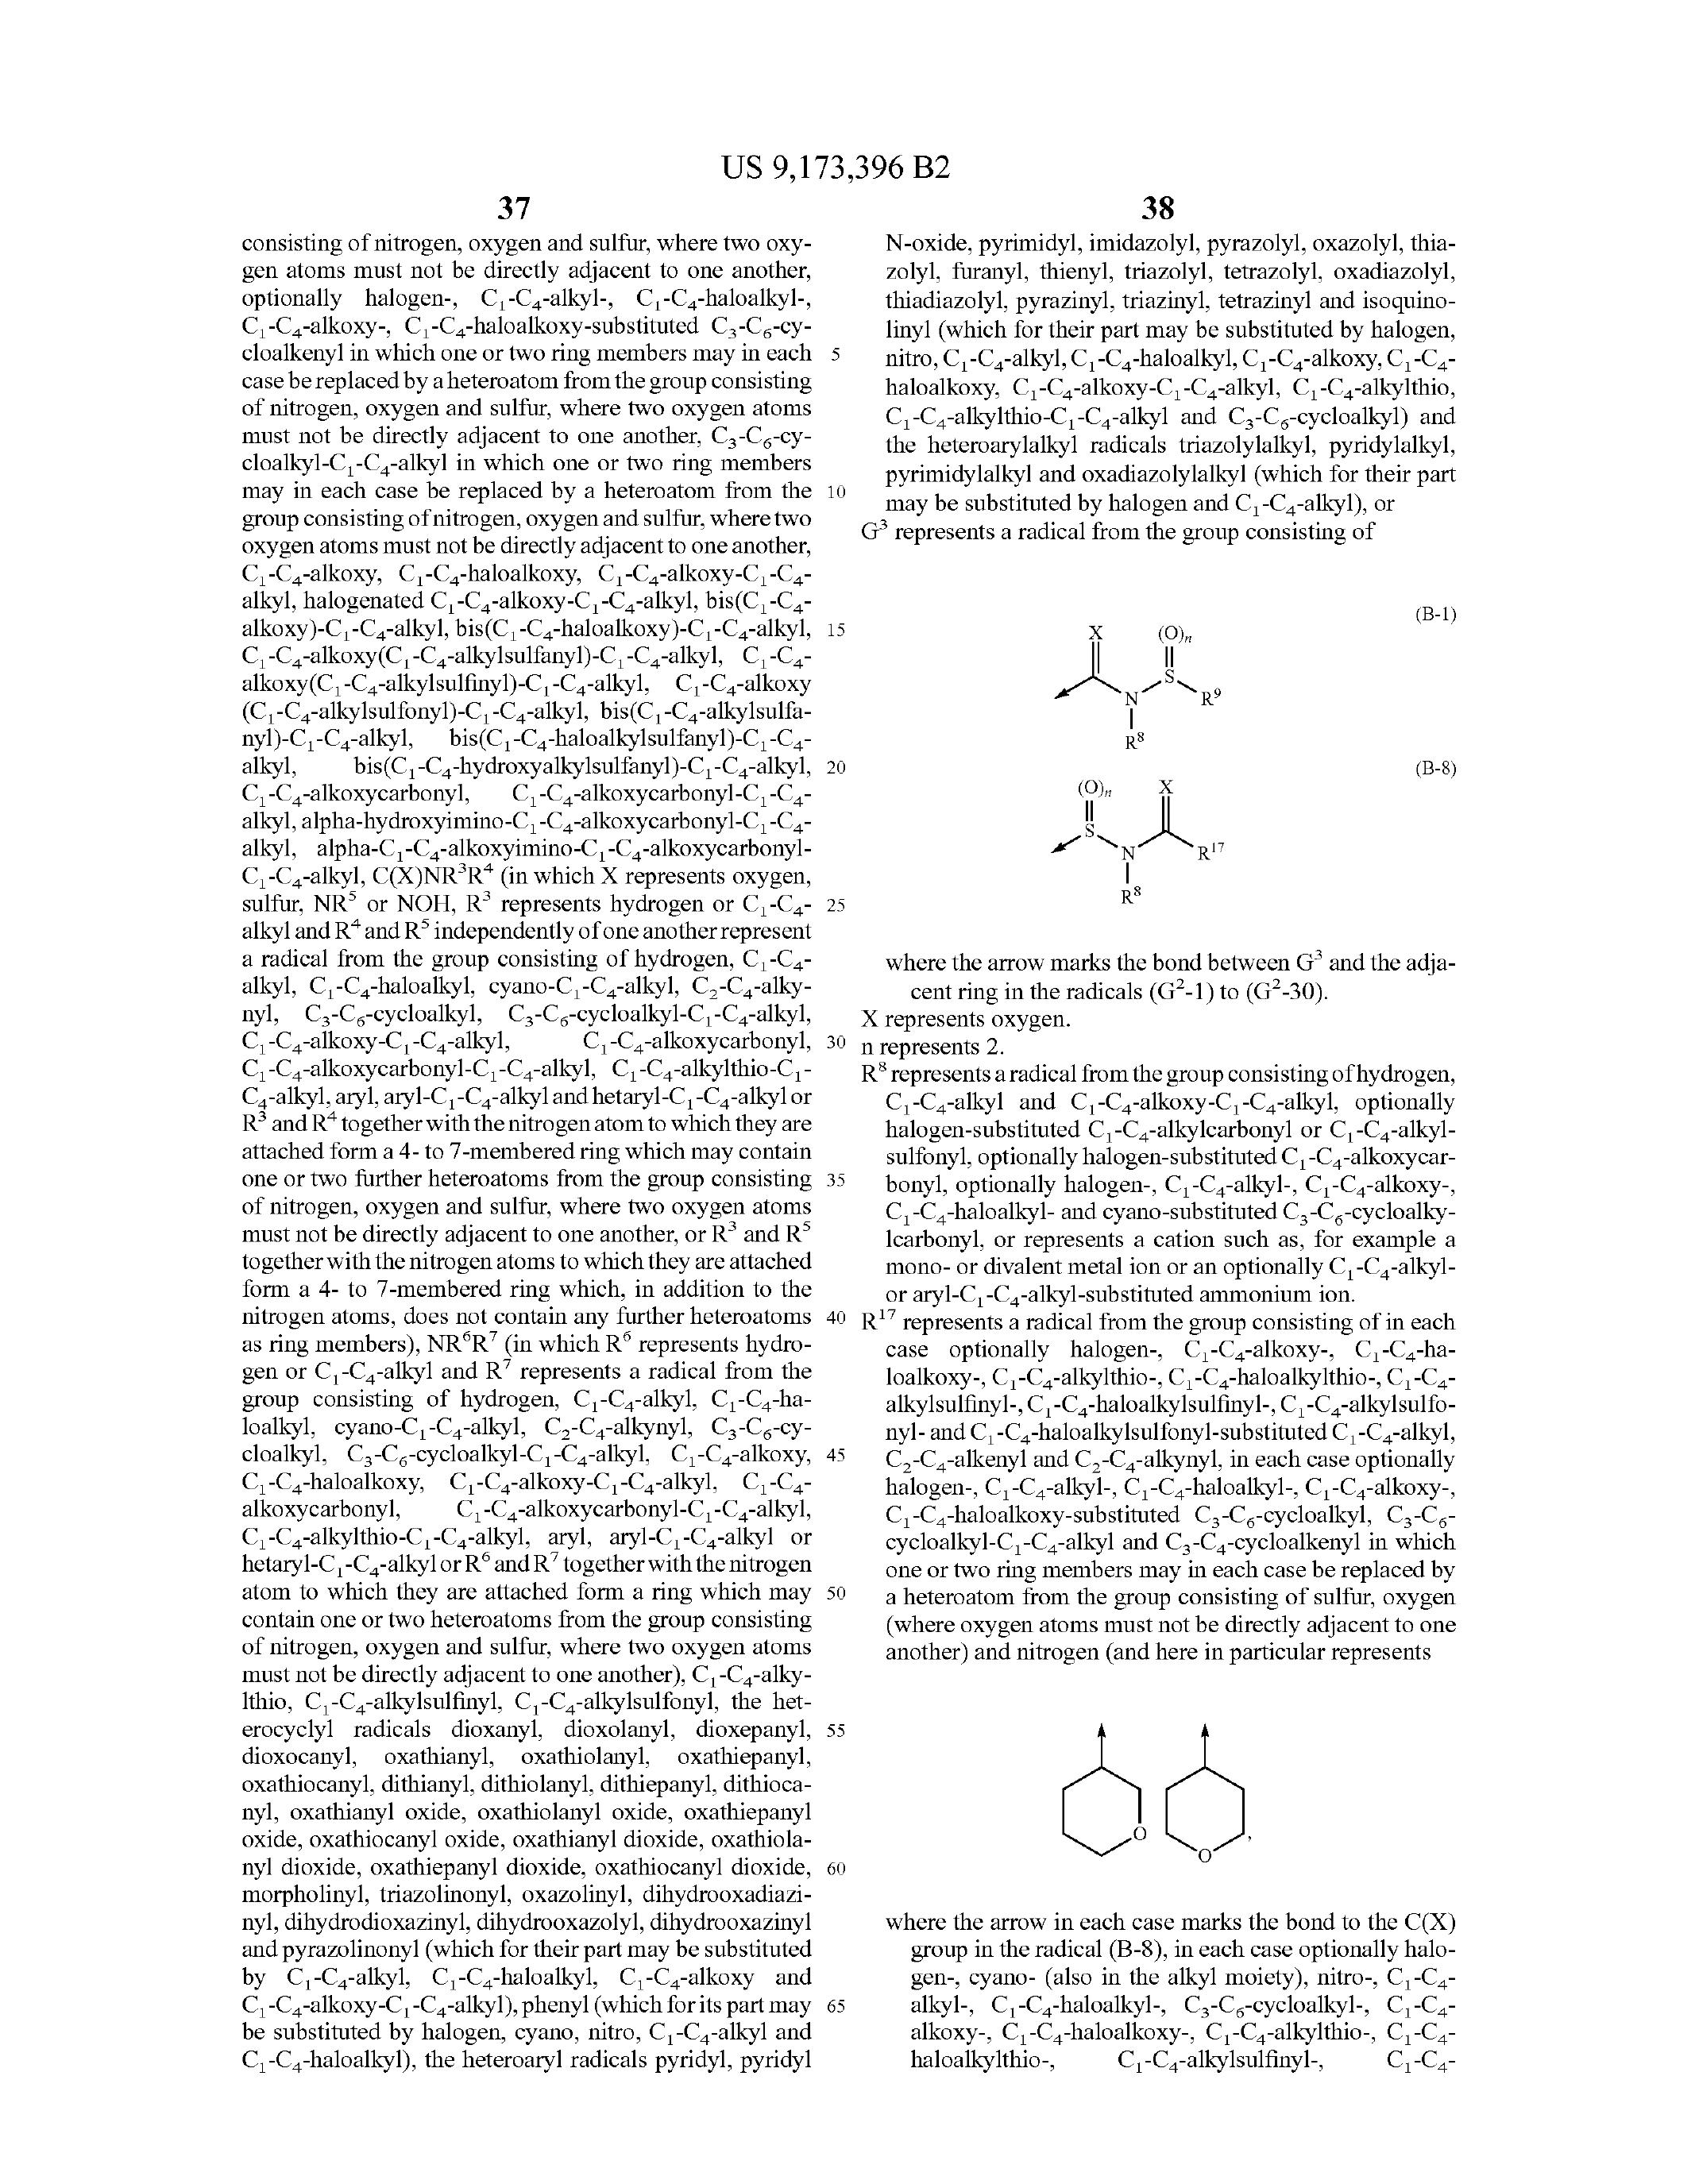substitutes: (901, 613, 1339, 911)
